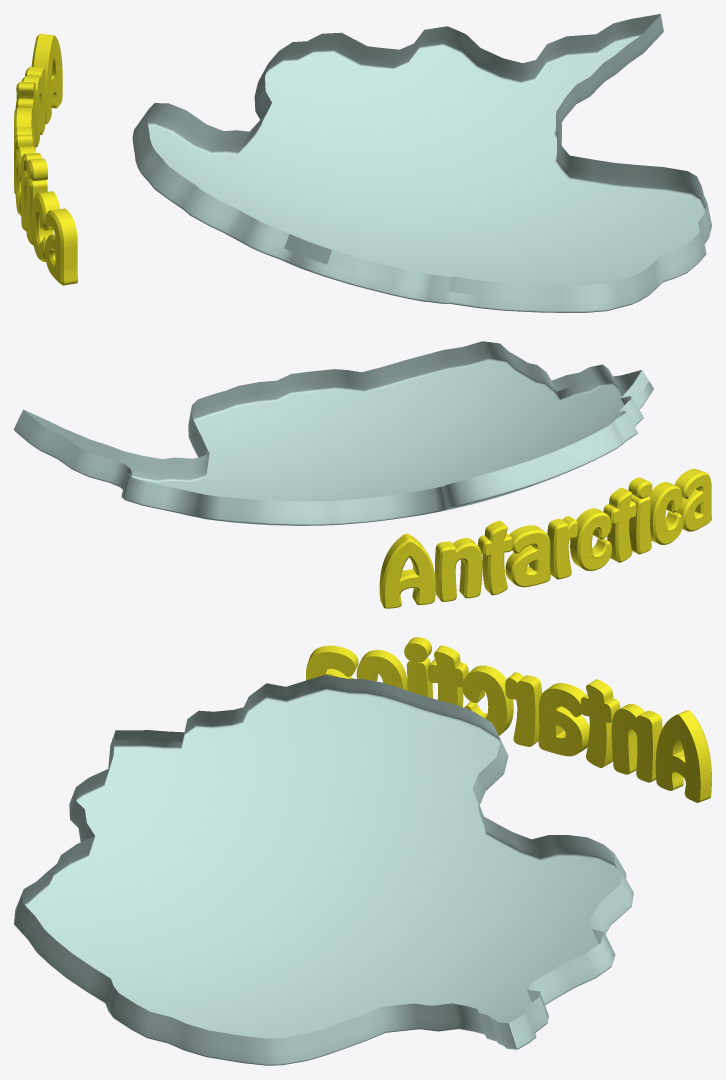
The model's file is antarctica.glb.
3 views of the same model, one above another, from view 1: azimuth 30°, elevation 25°; view 2: azimuth 150°, elevation 25°; view 3: azimuth 270°, elevation 25° (orthographic). The views are drawn at different scales.
Parts seen in each view (by area): view 1: c5; view 2: c5; view 3: c5.
Boxes of the visible parts, box(x1,y1,x2,y2) form: c5: box(14, 14, 711, 312); c5: box(14, 341, 711, 608); c5: box(14, 637, 711, 1065).
Bounding box in the file's own units: 1.04 × 0.2111 × 0.8765.
